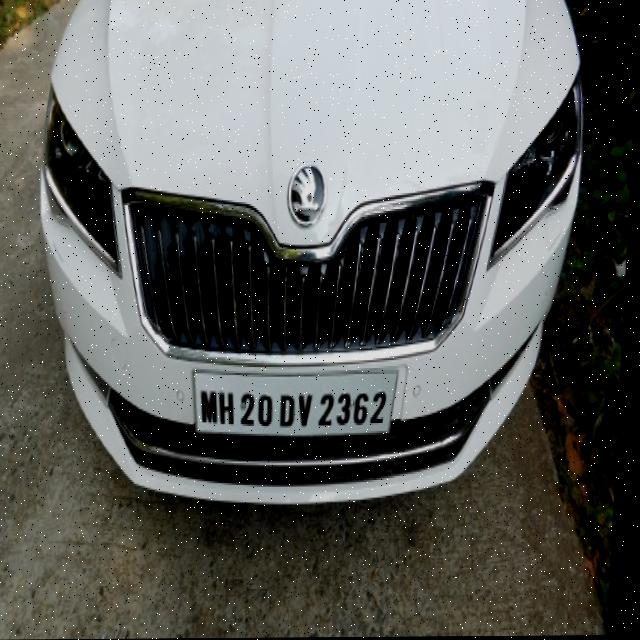plate: (194, 365, 402, 439)
